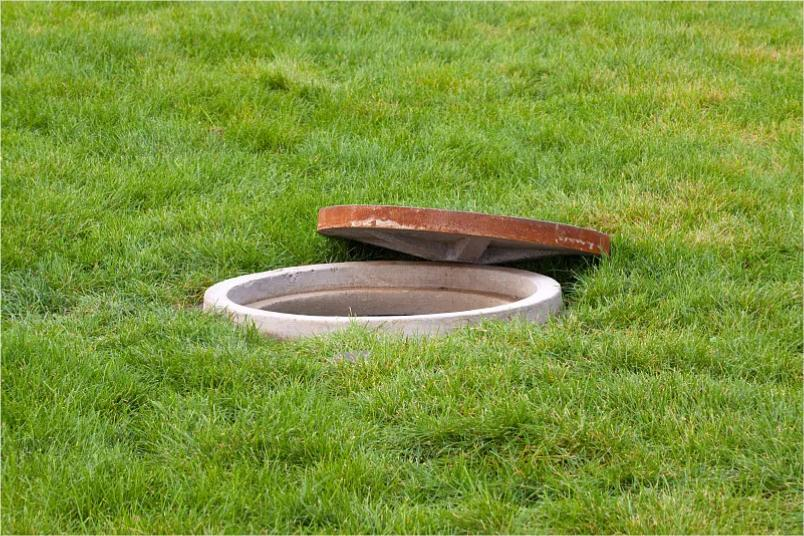wellcover: (204, 164, 659, 376)
